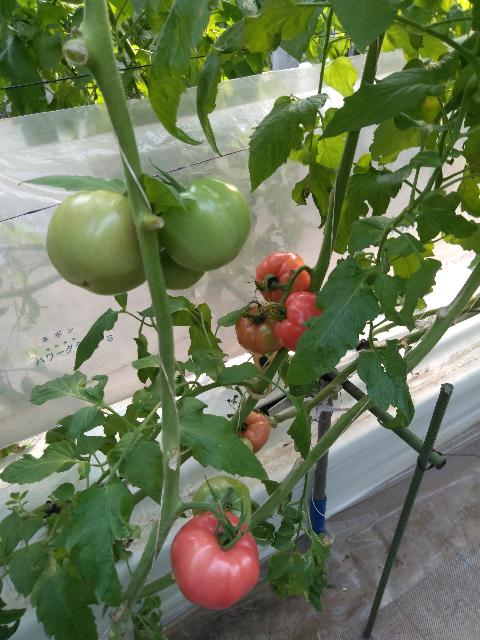b_fully_ripened: (170, 507, 261, 611), (274, 291, 324, 352), (255, 252, 311, 303)
b_green: (46, 191, 148, 295), (159, 179, 251, 272), (192, 476, 252, 527), (234, 304, 286, 354), (160, 251, 205, 291)
b_half_ripened: (237, 410, 270, 454)
